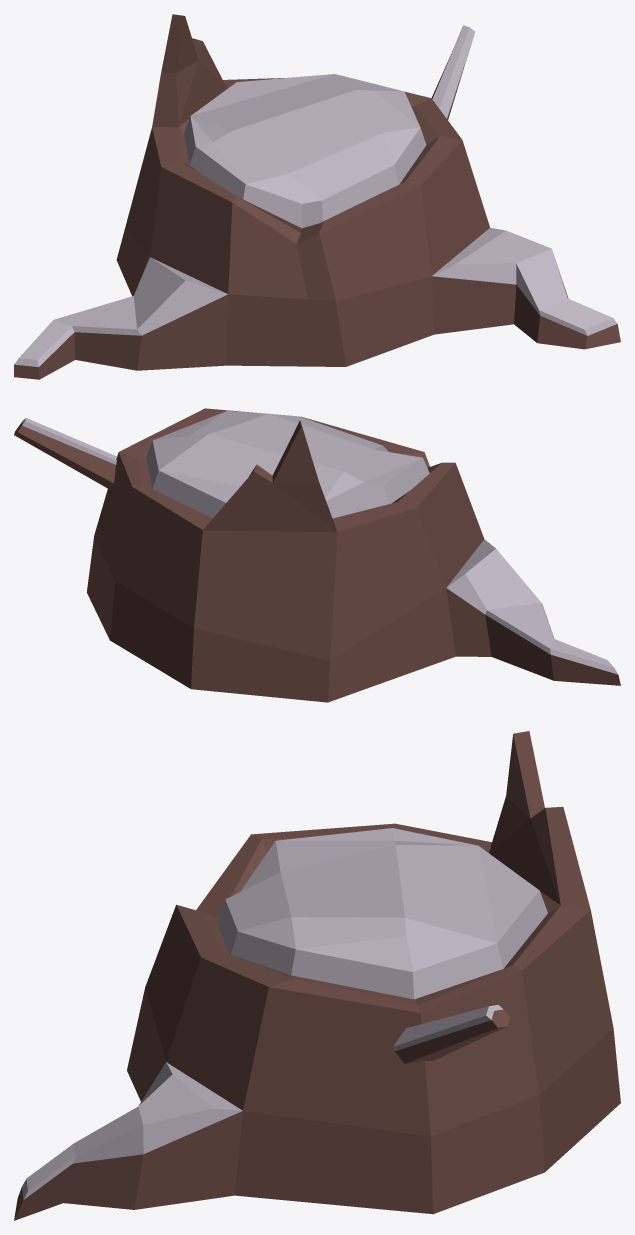
The model's file is treestump_snow.glb.
The picture shows the model from 3 angles, top to bottom: view 1: azimuth 30°, elevation 25°; view 2: azimuth 150°, elevation 25°; view 3: azimuth 270°, elevation 25°; orthographic projection. The views are drawn at different scales.
Visible parts, largest first — view 1: TreeStump_Snow; view 2: TreeStump_Snow; view 3: TreeStump_Snow.
Boxes of the visible parts, box(x1,y1,x2,y2) form: TreeStump_Snow: box(14, 14, 620, 379); TreeStump_Snow: box(14, 408, 620, 702); TreeStump_Snow: box(14, 731, 620, 1220).
Bounding box in the file's own units: 2.04 × 0.9324 × 1.55.
